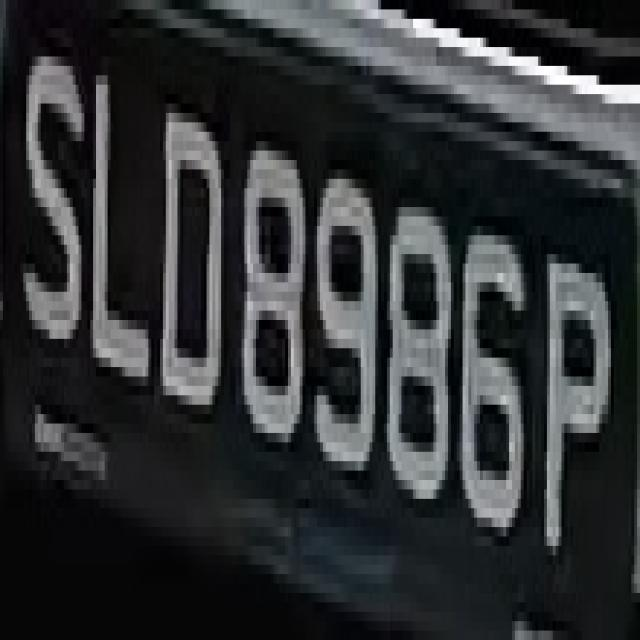6: (457, 169, 532, 546)
8: (387, 151, 460, 555), (244, 85, 314, 480)
9: (308, 141, 384, 537)
D: (157, 66, 230, 461)
L: (90, 38, 154, 395)
P: (547, 226, 608, 565)
S: (15, 38, 90, 367)
